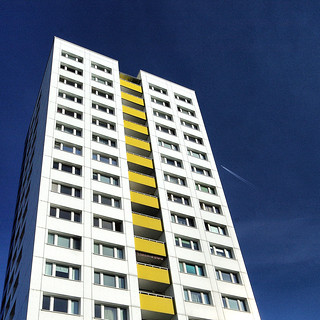high: (2, 34, 264, 320)
